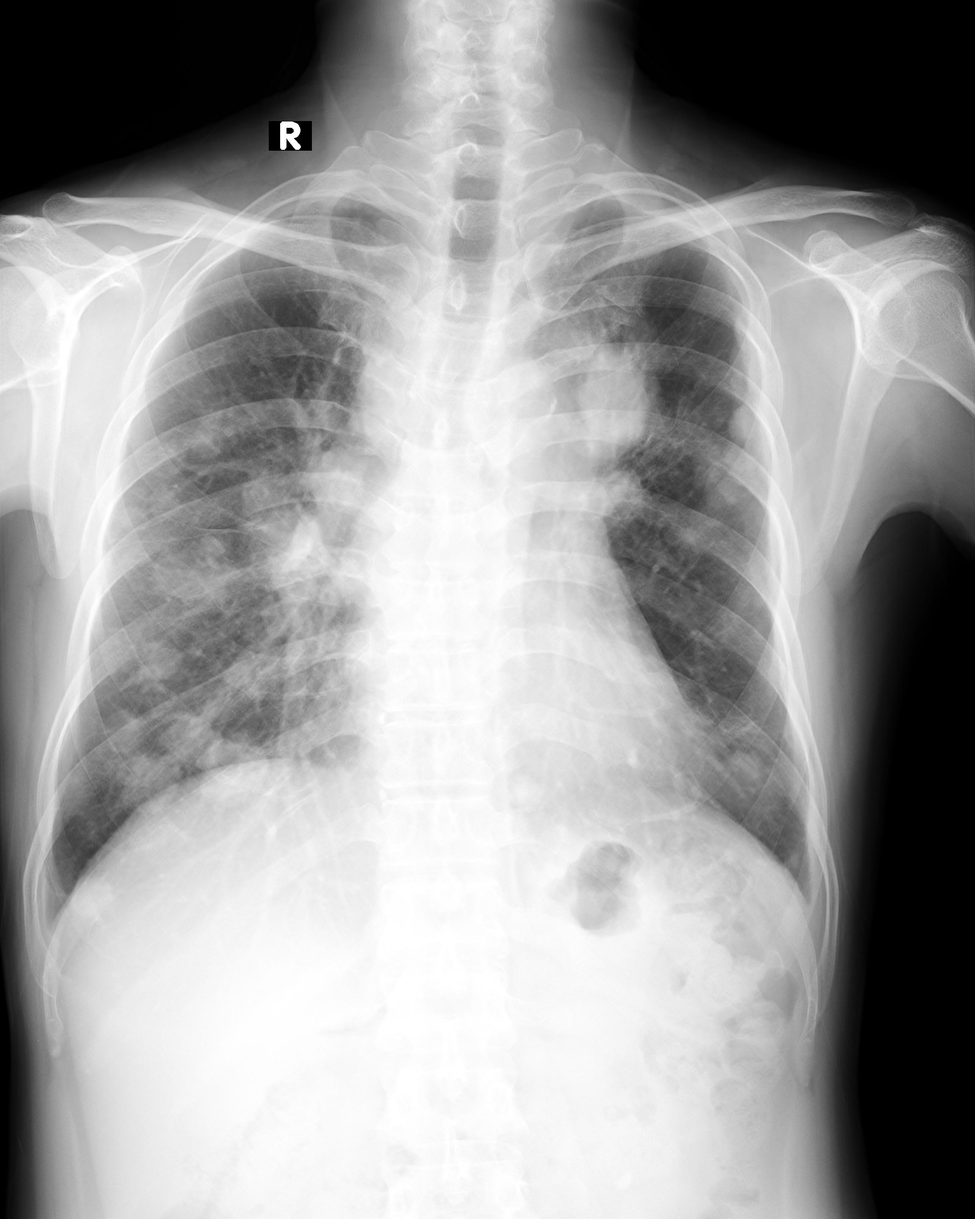Aortic enlargement: (478, 353, 595, 475)
